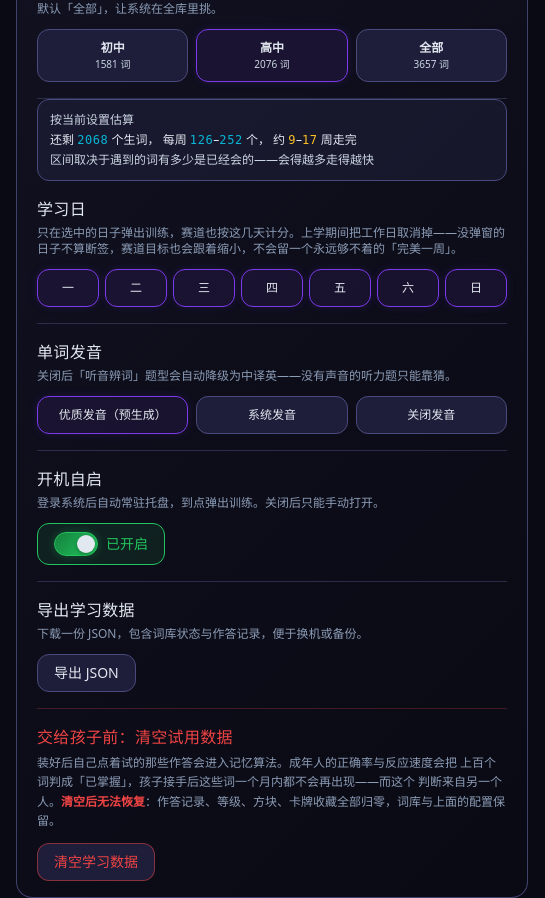
Test: 设置面板 › 清空学习数据 › 取消后回到未确认态
(page scrolled)
Click the button "清空学习数据". click: (96,862)
box: [37,843,155,881]
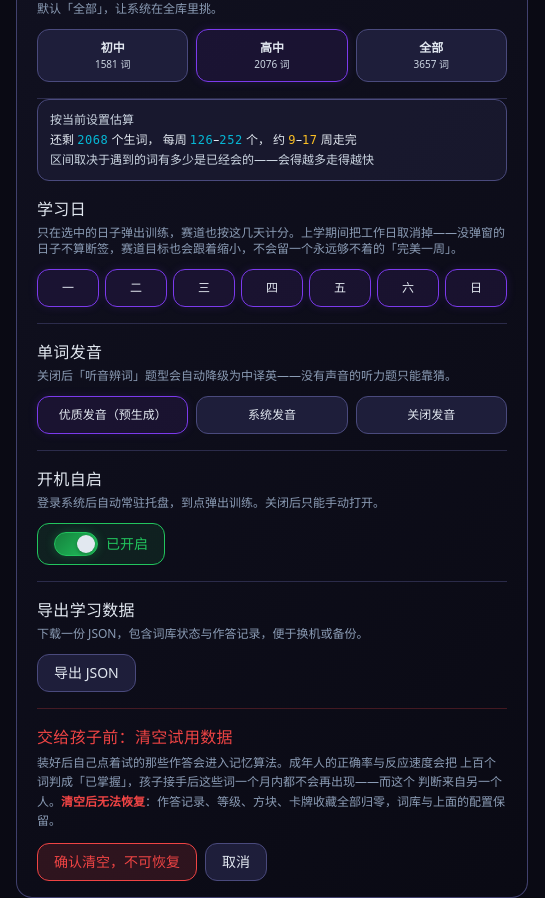
Click the button "取消". click: (236,862)
box: [205,843,267,881]
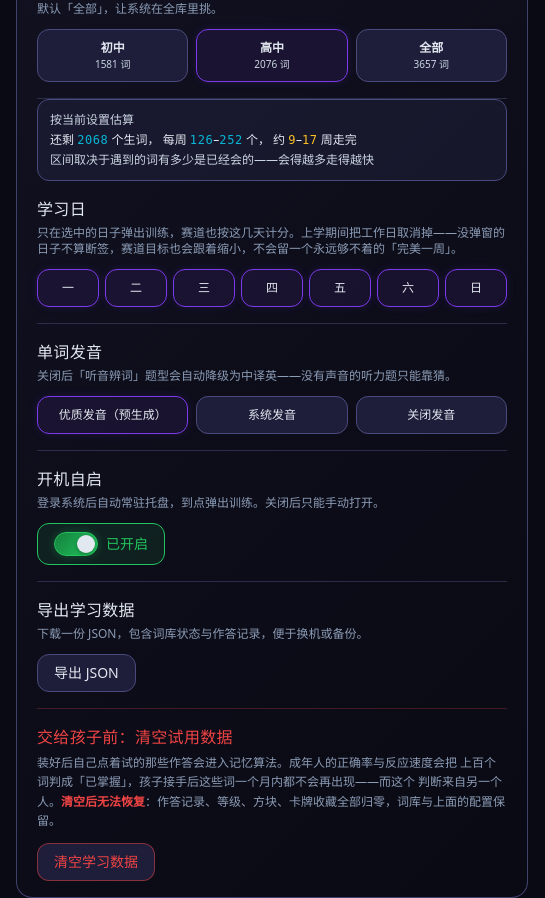
Expected: the text "确认清空" is gone
